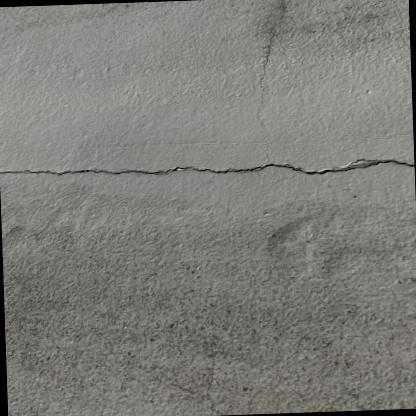crack: (0, 156, 415, 180)
